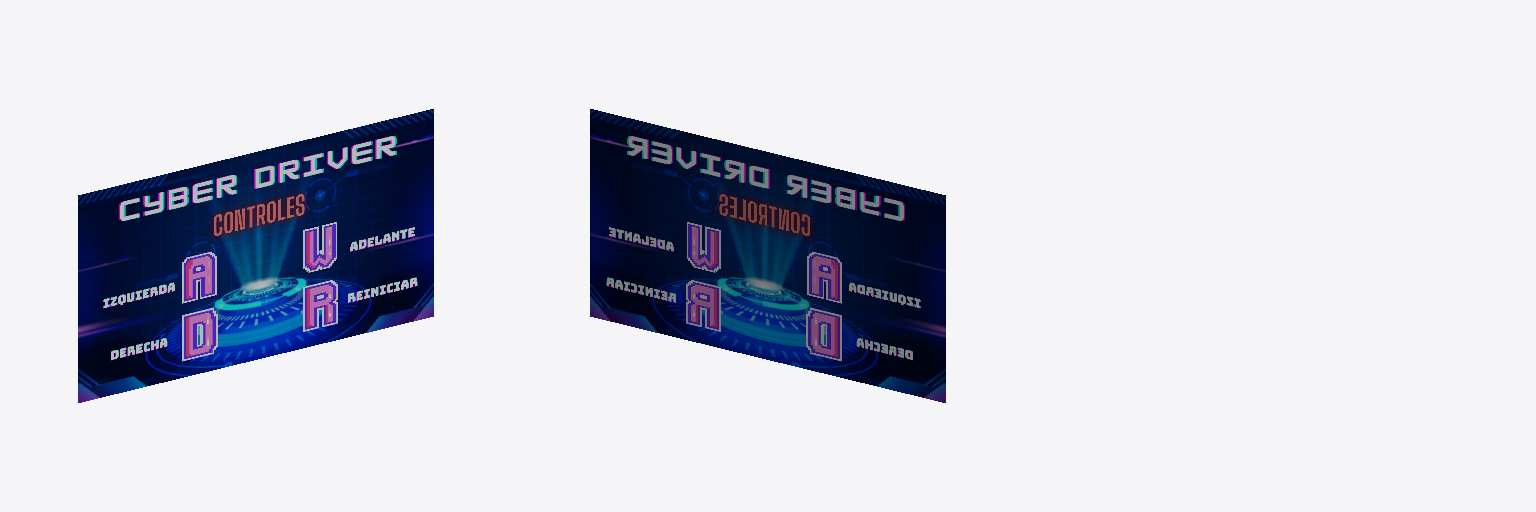
3 views of the same model, side by side, from view 1: azimuth 30°, elevation 25°; view 2: azimuth 150°, elevation 25°; view 3: azimuth 270°, elevation 25° (orthographic).
Parts seen in each view (by area): view 1: Plane; view 2: Plane; view 3: none.
Boxes of the visible parts, x1,y1,x2,y2 form: Plane: [78, 109, 433, 402]; Plane: [590, 109, 945, 402].
Size of the model in its own units: 397 by 221 by 0.
1 materials, 1 textured.